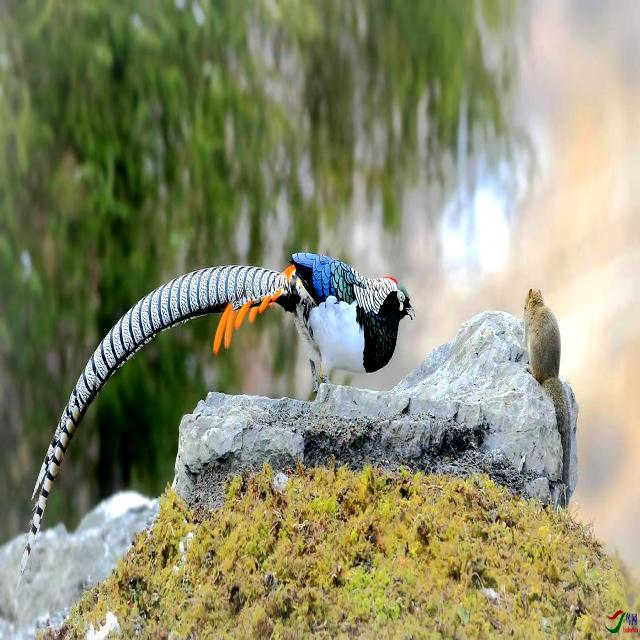Chrysolophus amherstiae: (21, 254, 302, 574)
